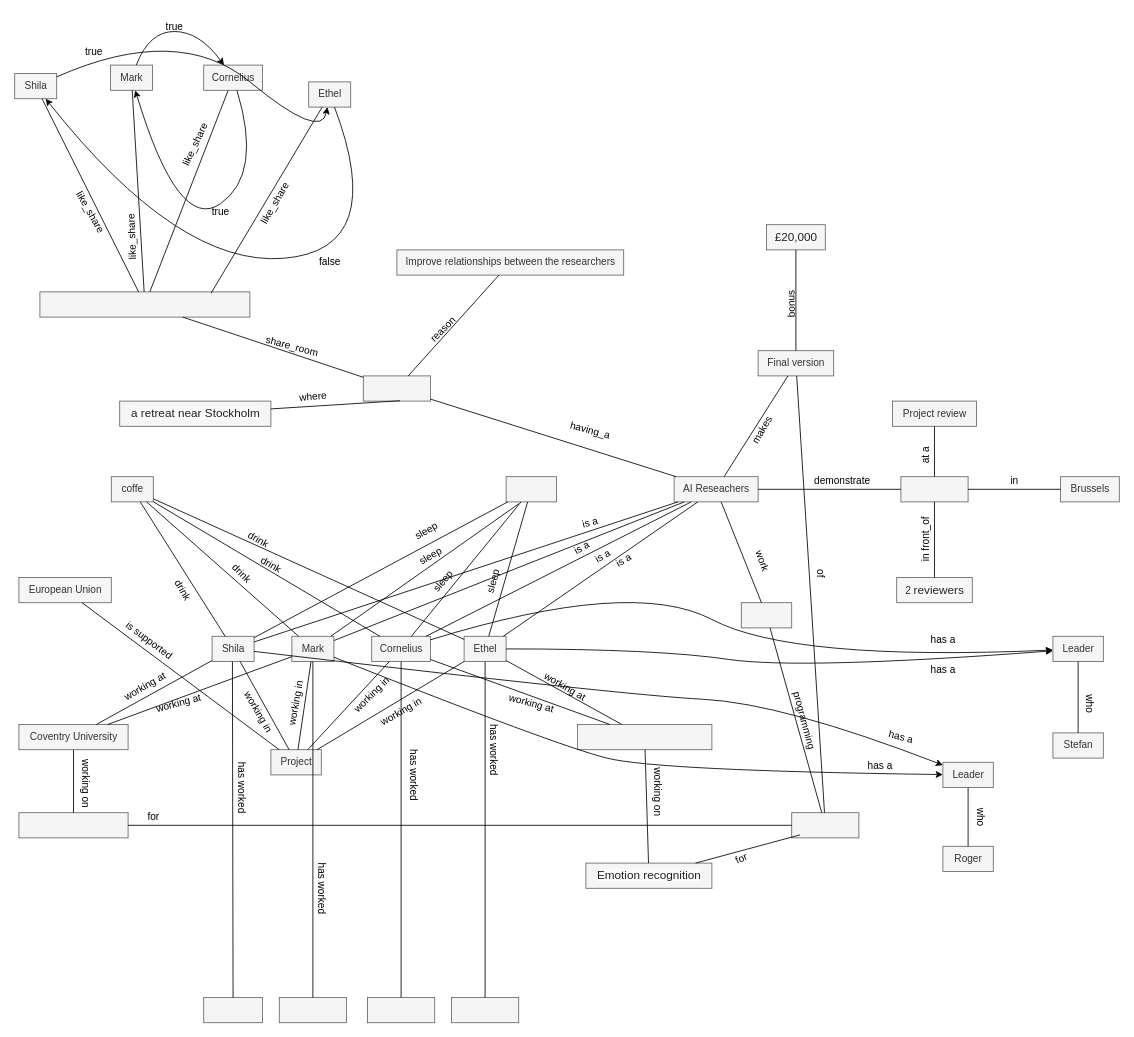
This 1134x1037 diagram has some shape labels left out. The shapes that lost their labels are listed below. From the top down, each one's centre as x and y in pixels, then its label:
pixel 144 304: Researchers from a different country
pixel 396 388: A meeting
pixel 530 489: 4 hours
pixel 934 489: Their work
pixel 766 615: 6 hours
pixel 644 737: University of Hamburg
pixel 73 825: Speech recognition
pixel 825 825: The agent
pixel 232 1010: 1 project
pixel 312 1010: 3 projects
pixel 401 1010: 2 projects
pixel 485 1010: 4 projects
